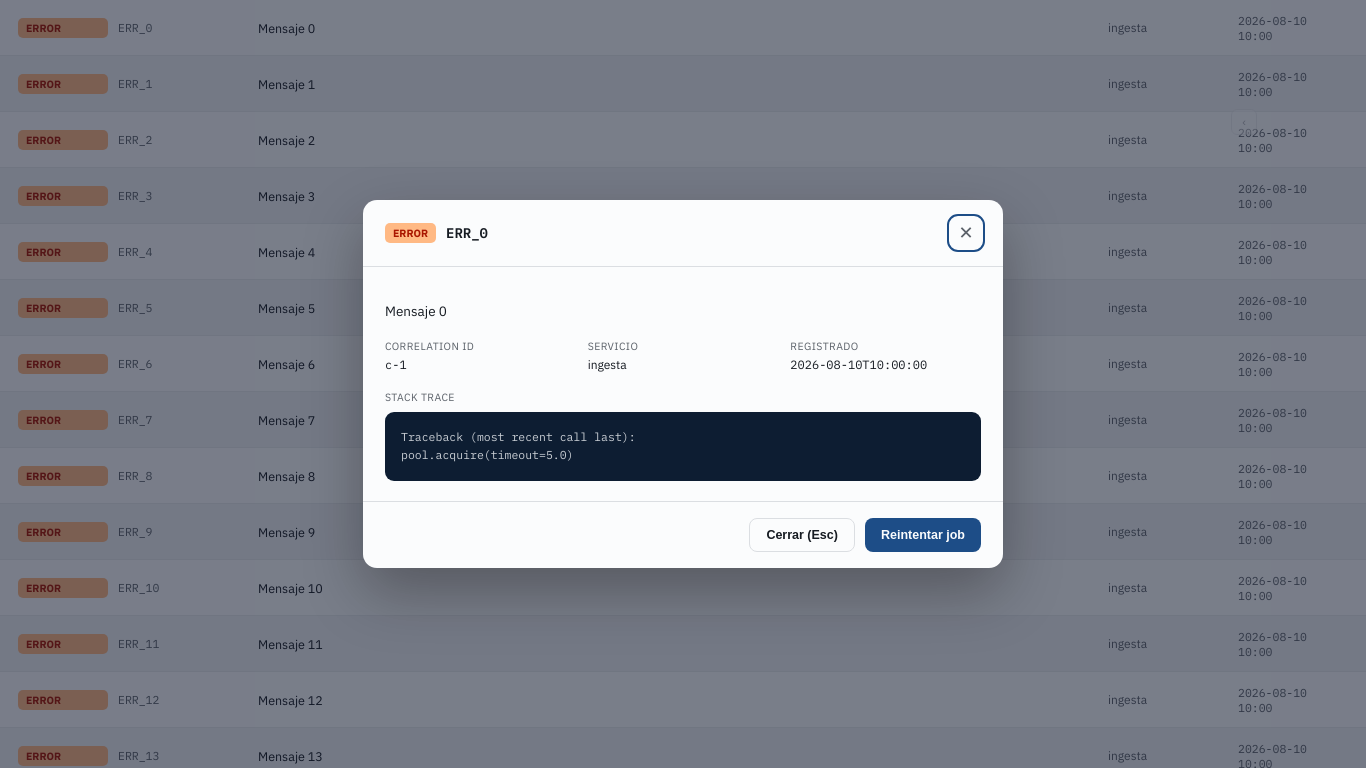
Test: Logs screen › closes the modal via the close button (covers close() in useOpenLogIdFromRoute)
Expected: the dialog is shown, [363,200,1003,568]
Click the button with class "stack-modal-close": (966, 233) [951,218,981,248]
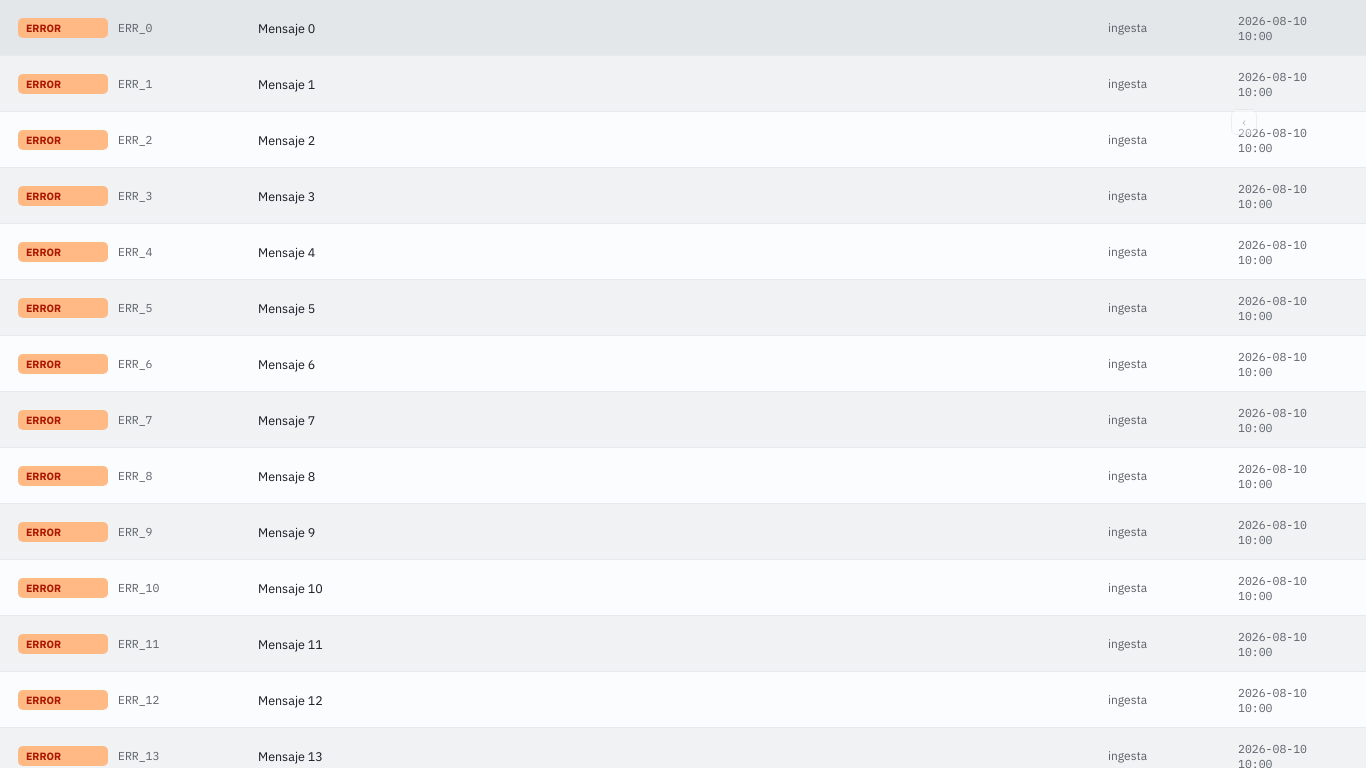
Expected: the dialog is gone
